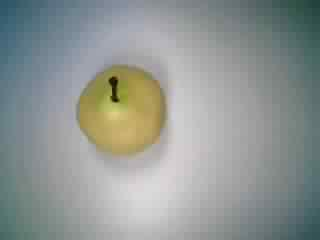pear: (69, 54, 168, 157)
